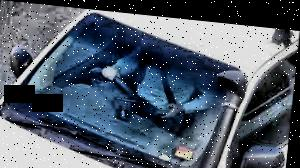seatbelt: (153, 57, 183, 116)
